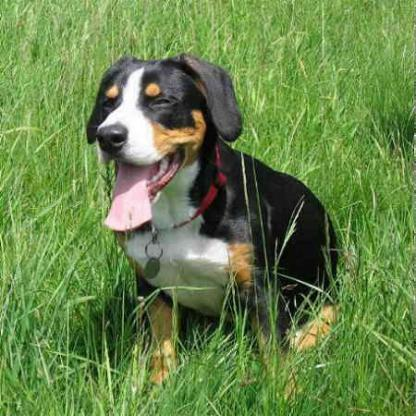EntleBucher: (82, 51, 343, 396)
